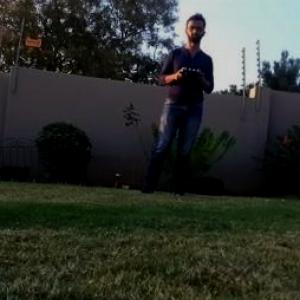follow: (134, 3, 216, 198)
